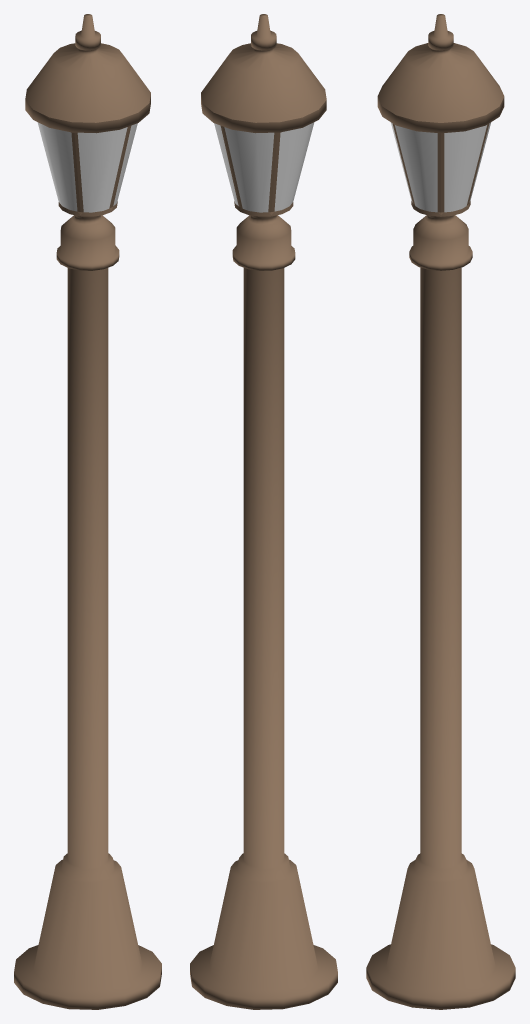
File: StreetLamp_split3.glb
The picture shows the model from 3 angles, left to right: view 1: azimuth 30°, elevation 25°; view 2: azimuth 150°, elevation 25°; view 3: azimuth 270°, elevation 25°; orthographic projection.
Visible parts, largest first — view 1: LampBody, LampGlass; view 2: LampBody, LampGlass; view 3: LampBody, LampGlass.
Boxes of the visible parts, left/top/right/bottom form: LampBody: left=14, top=14, right=161, bottom=1009; LampGlass: left=37, top=122, right=137, bottom=212; LampBody: left=190, top=14, right=337, bottom=1009; LampGlass: left=214, top=122, right=314, bottom=212; LampBody: left=366, top=14, right=515, bottom=1009; LampGlass: left=391, top=122, right=490, bottom=212.
Size of the model in its own units: 4.98 by 35.48 by 4.98.
